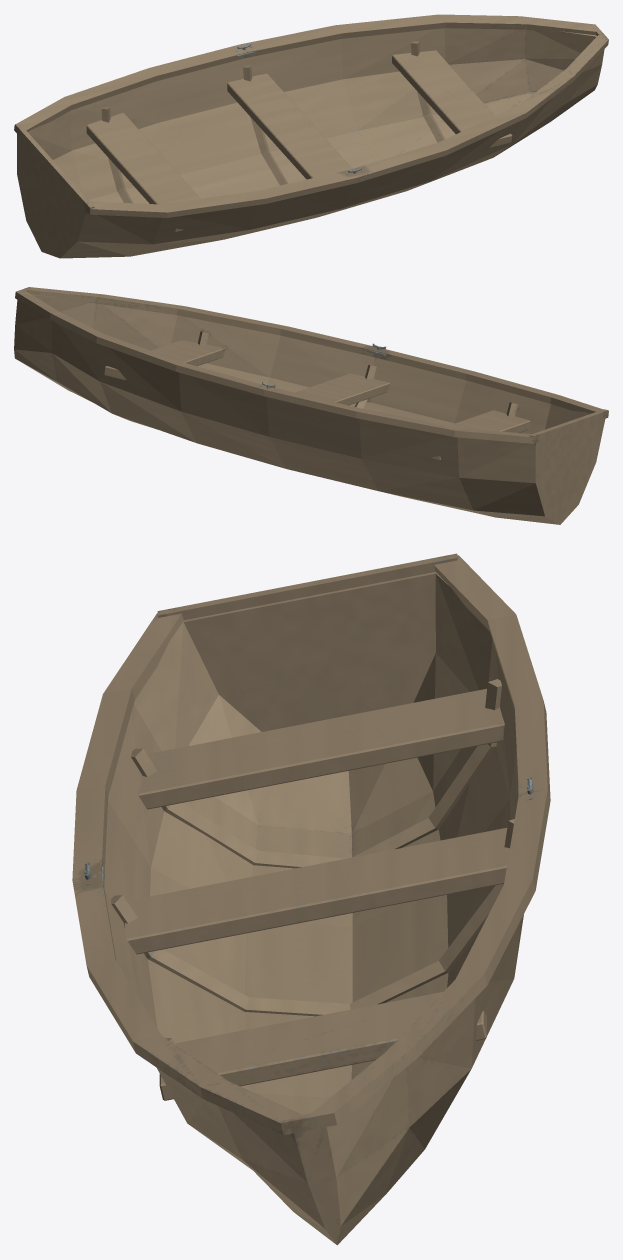
Rendered from lake_rowboat_beached.glb.
3 renders of one model, top to bottom at view 1: azimuth 30°, elevation 25°; view 2: azimuth 150°, elevation 25°; view 3: azimuth 270°, elevation 25°, orthographic. The views are drawn at different scales.
Parts seen in each view (by area): view 1: RowboatBeached; view 2: RowboatBeached; view 3: RowboatBeached.
Boxes of the visible parts, x1,y1,x2,y2 form: RowboatBeached: (14, 14, 608, 258); RowboatBeached: (14, 287, 608, 524); RowboatBeached: (72, 553, 550, 1245).
Size of what is drawn, in the model's own units: 3 by 0.6425 by 1.13.
Materials: 1 (1 with a texture image).
